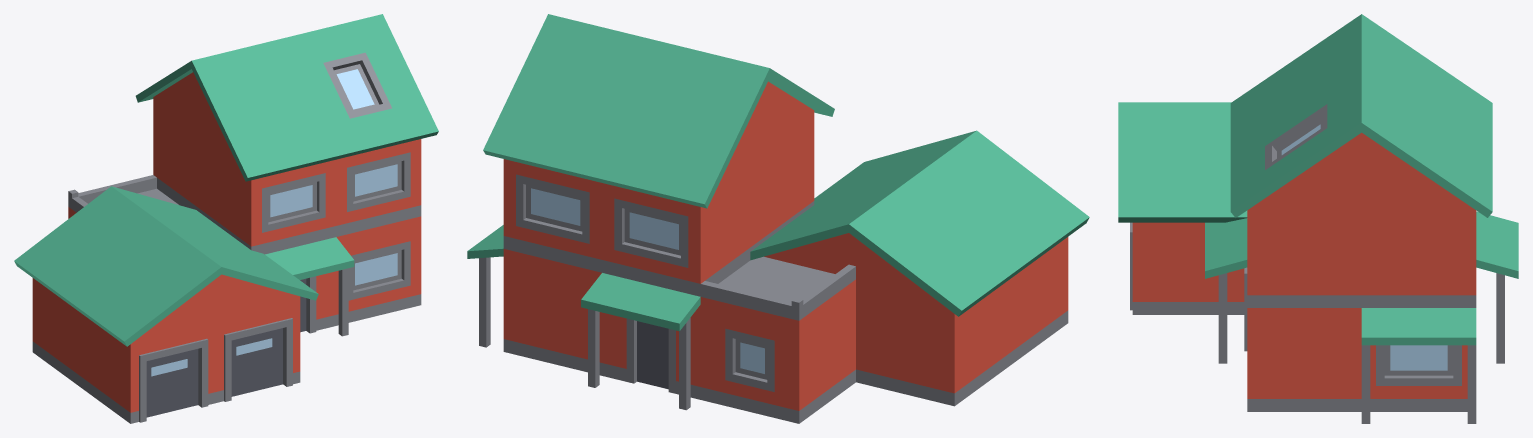
File: House_Type_10.glb
The picture shows the model from 3 angles, left to right: view 1: azimuth 30°, elevation 25°; view 2: azimuth 150°, elevation 25°; view 3: azimuth 270°, elevation 25°; orthographic projection. The views are drawn at different scales.
Parts seen in each view (by area): view 1: house_type10; view 2: house_type10; view 3: house_type10.
Part boxes in pixels (left/top/right/bottom): house_type10: left=14, top=14, right=438, bottom=423; house_type10: left=467, top=14, right=1089, bottom=423; house_type10: left=1118, top=14, right=1518, bottom=423.
Bounding box in the file's own units: 1.81 × 1.14 × 1.4.
